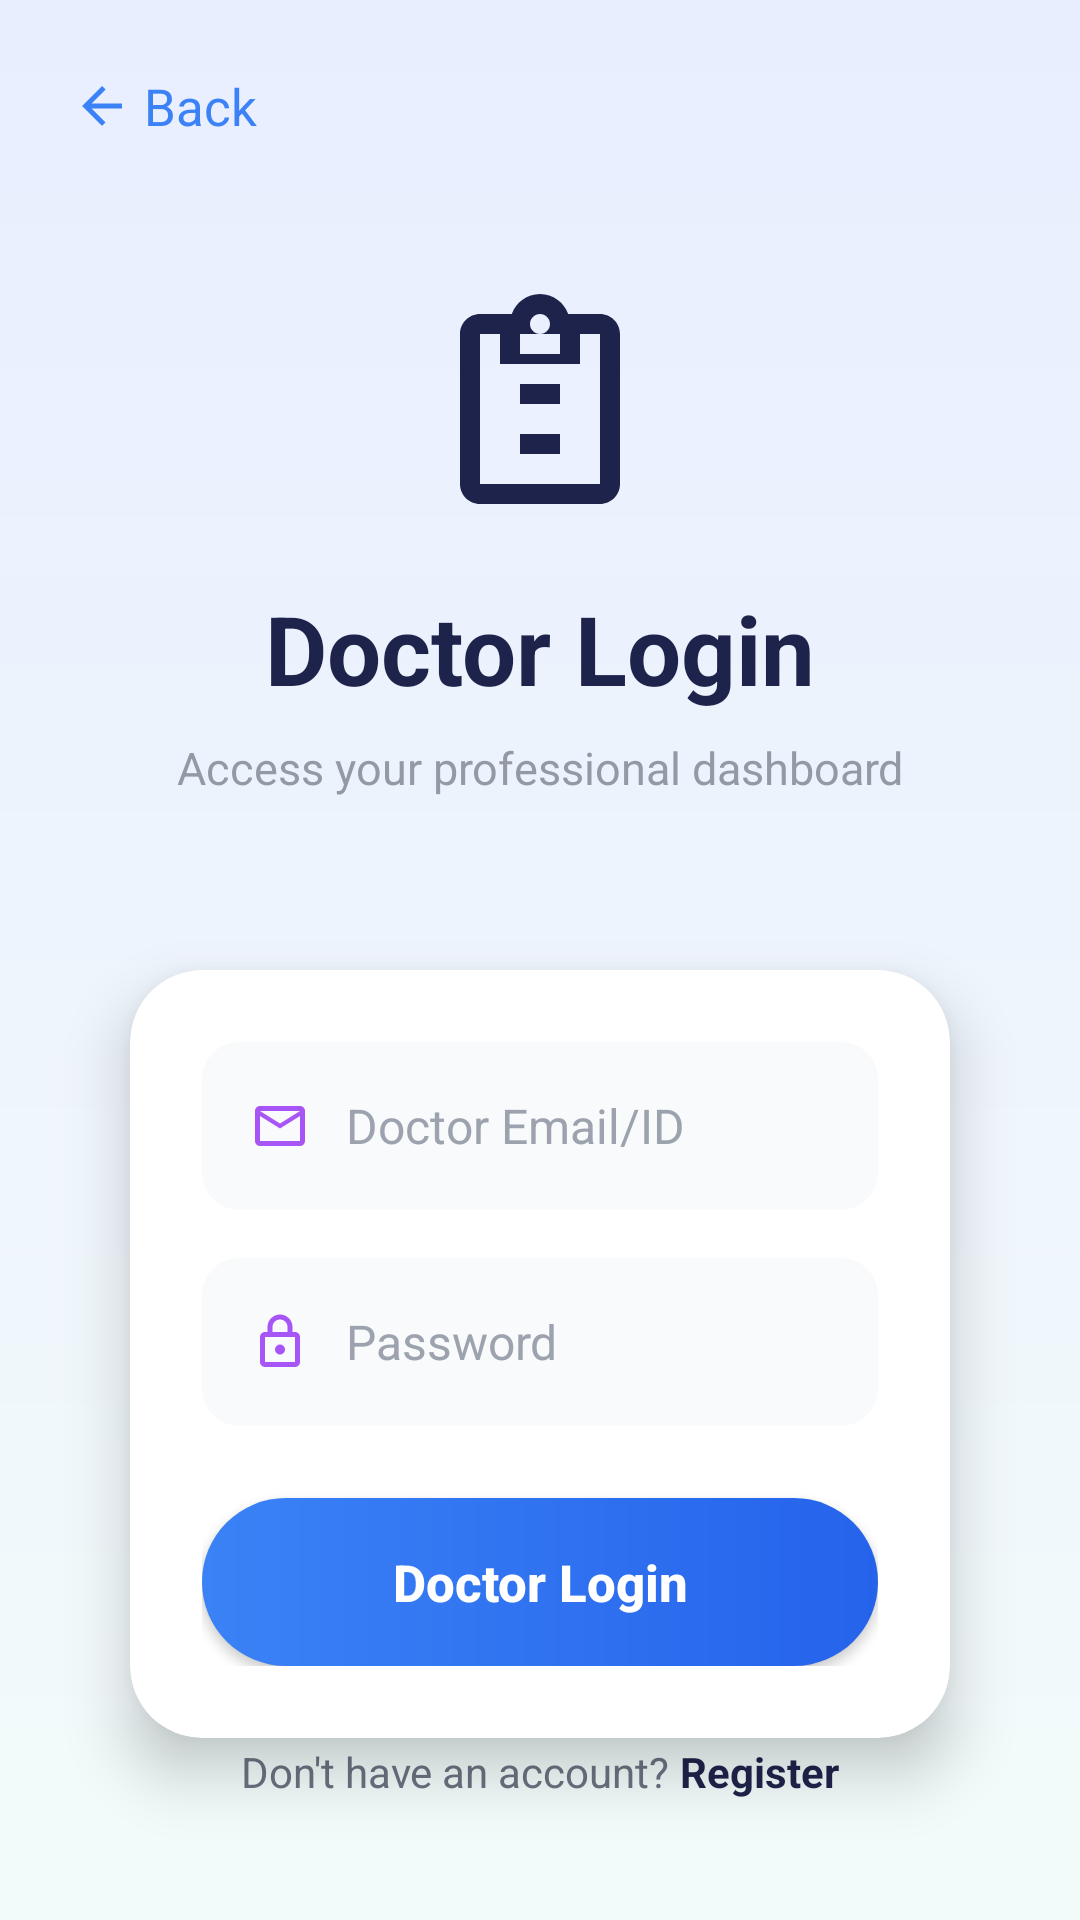

Icons on this 1080px×1920px Android screen, each with the point to tap as [x,y]:
lock: [280,1340]
